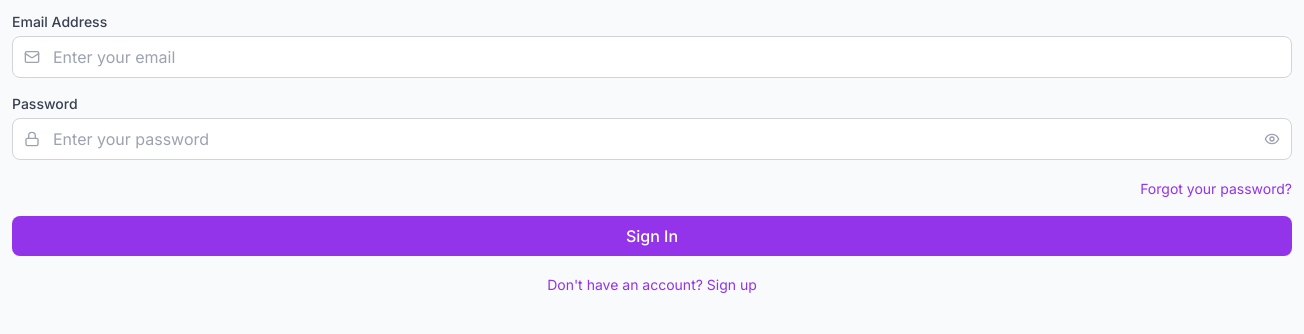
Test: LoginForm › validates email format
The image size is (1304, 334).
Type invalid email and valid password
Type "notanemail" into the field labelled "Email Address". click: (652, 57)
box: [12, 36, 1292, 78]
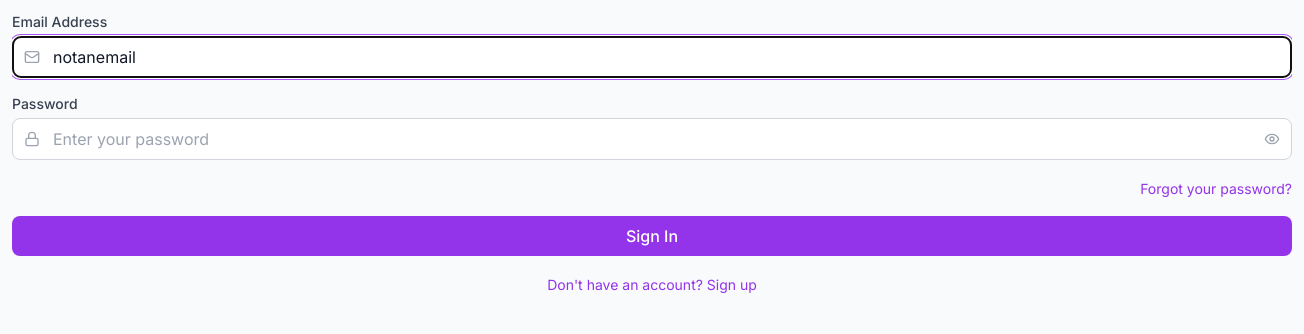
Type "password123" into the password field labelled "Password". click: (652, 139)
box: [12, 118, 1292, 160]
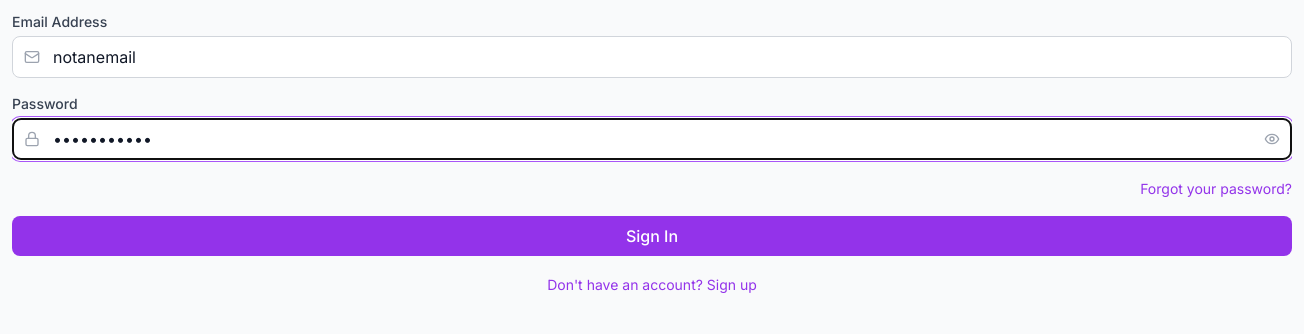
Submit the form
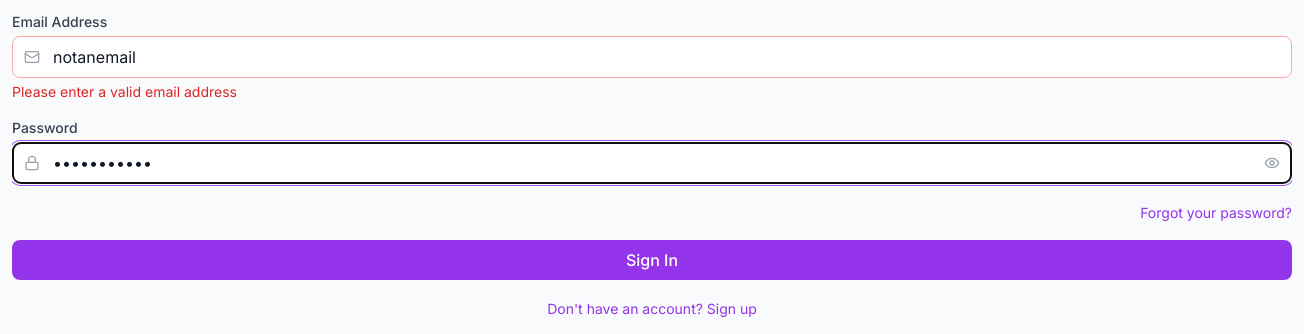
Check: the text "Please enter a valid email address" is shown, box [12, 83, 237, 100]
